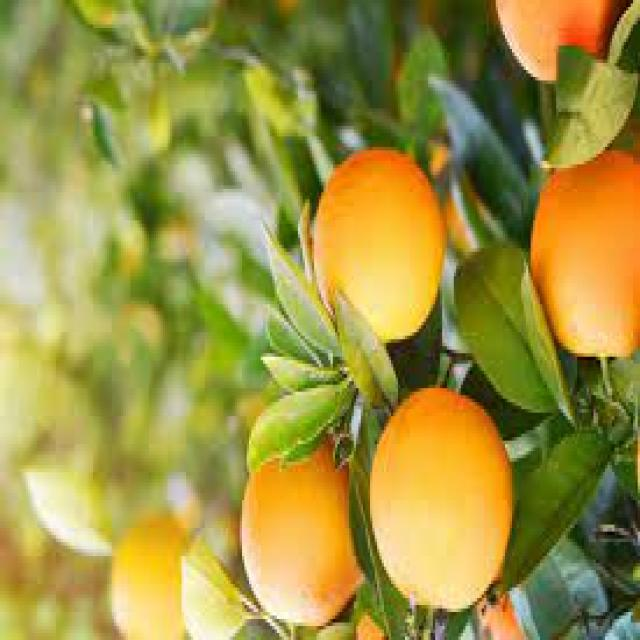orange: (366, 387, 526, 601)
